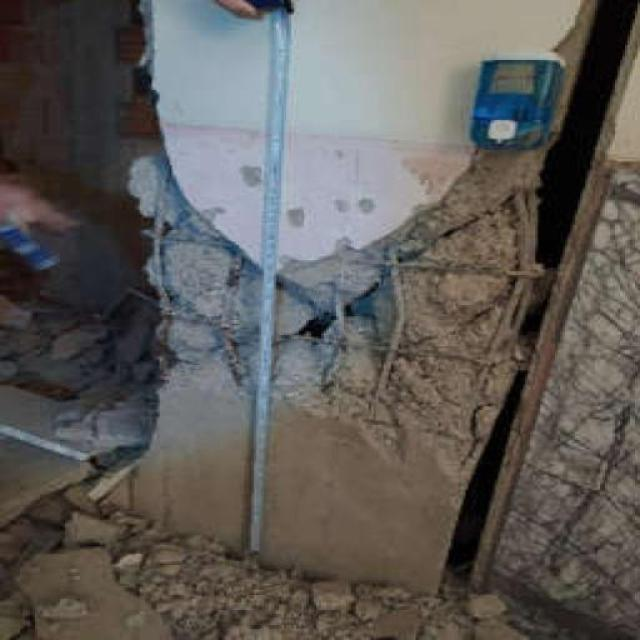D0w0: (274, 150, 551, 489), (132, 152, 259, 390)
